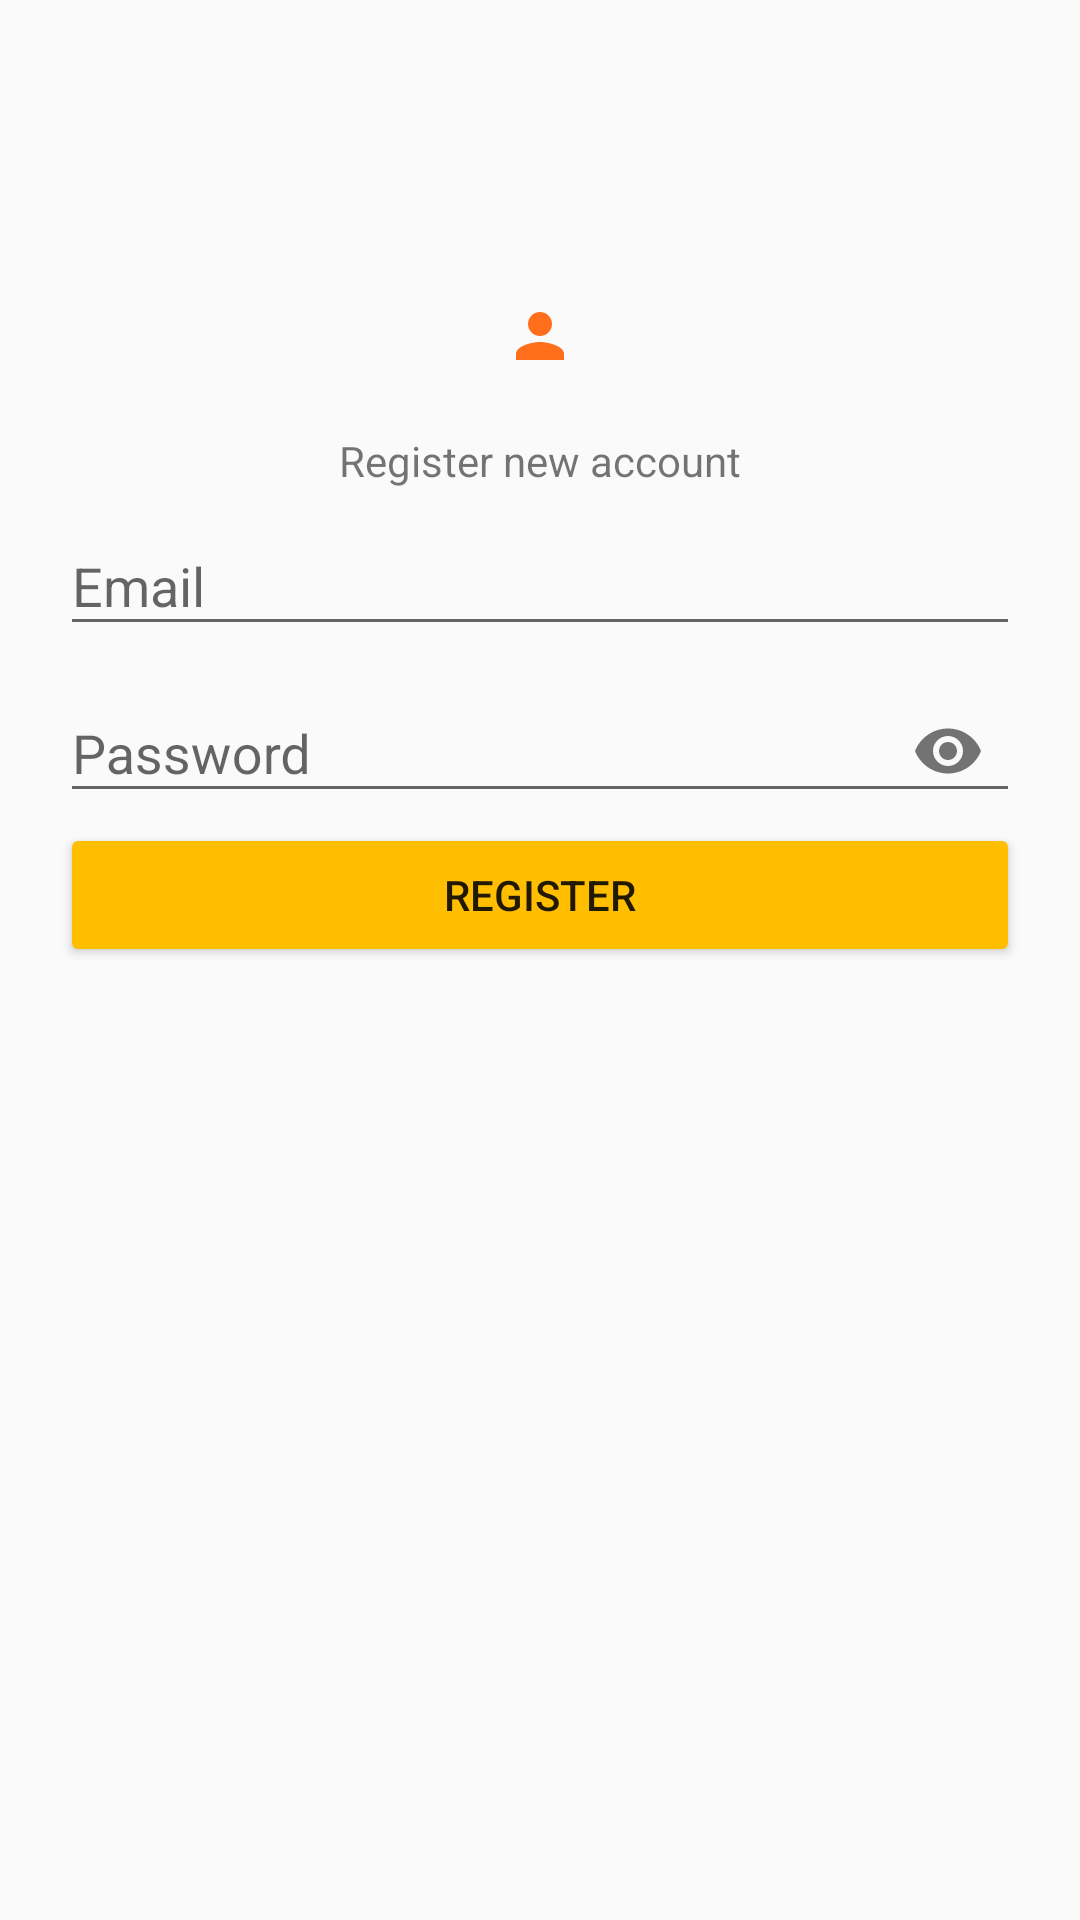

Named icons in this screenshot (1080px x 1920px) and their bounding boxes, (x1, y1, x2, y2):
person: (516, 312, 564, 360)
